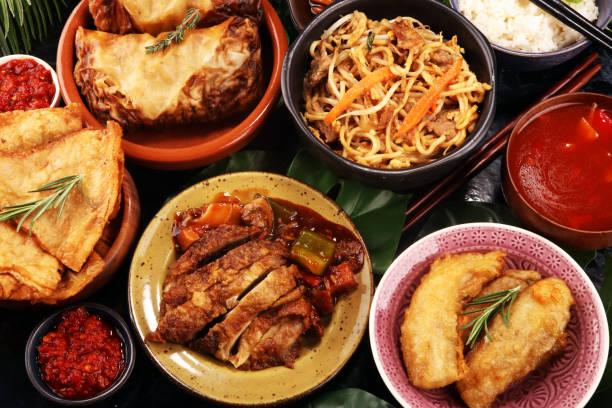Braised Crucian Carp: (127, 169, 367, 405), (365, 220, 606, 407), (281, 0, 493, 193), (63, 0, 283, 169), (4, 157, 141, 310), (500, 92, 608, 250)
